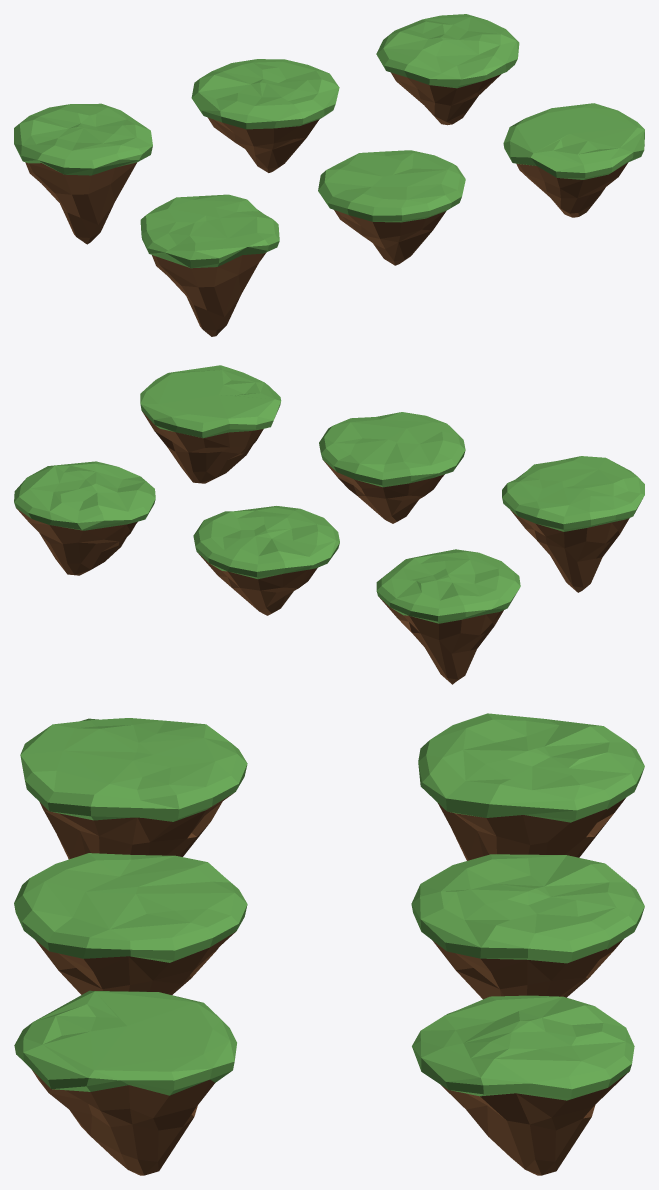
File: FloatingDirtIsland_Flatter.fbx
3 renders of one model, top to bottom at view 1: azimuth 30°, elevation 25°; view 2: azimuth 150°, elevation 25°; view 3: azimuth 270°, elevation 25°, orthographic. The views are drawn at different scales.
Parts seen in each view (by area): view 1: Island_0_Flatter, Island_0, Island_1_Flatter, Island_1, Island_2_Flatter, Island_2; view 2: Island_0_Flatter, Island_0, Island_2_Flatter, Island_2, Island_1_Flatter, Island_1; view 3: Island_2_Flatter, Island_2, Island_1, Island_0, Island_1_Flatter, Island_0_Flatter.
Part boxes in pixels (box(x1,y1,x2,y2)): Island_0_Flatter: box(140, 194, 279, 336); Island_0: box(14, 103, 152, 244); Island_1_Flatter: box(318, 150, 465, 265); Island_1: box(191, 59, 339, 172); Island_2_Flatter: box(503, 103, 644, 217); Island_2: box(376, 14, 519, 125); Island_0_Flatter: box(502, 456, 644, 592); Island_0: box(376, 549, 520, 684); Island_2_Flatter: box(140, 365, 281, 483); Island_2: box(14, 461, 155, 575); Island_1_Flatter: box(319, 412, 465, 523); Island_1: box(193, 506, 339, 615); Island_2_Flatter: box(14, 990, 236, 1175); Island_2: box(412, 995, 634, 1175); Island_1: box(411, 854, 644, 999); Island_0: box(418, 713, 644, 860); Island_1_Flatter: box(14, 853, 247, 994); Island_0_Flatter: box(20, 718, 247, 859).
Bounding box in the file's own units: 1335 × 302 × 953.
